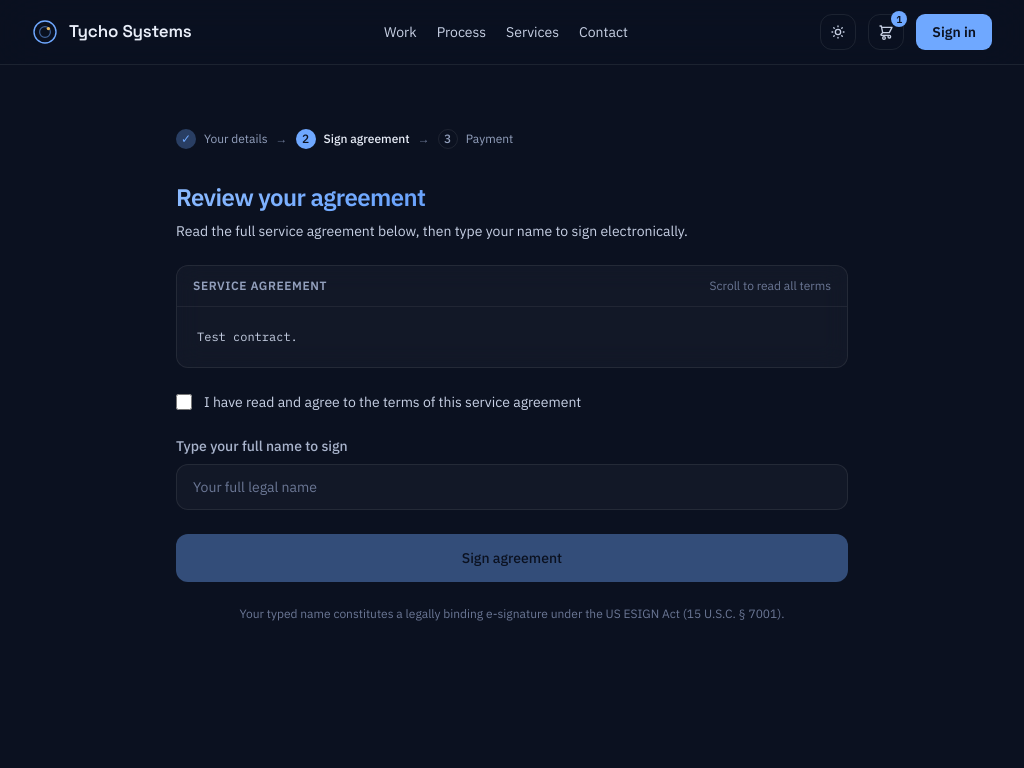
SignContract (Step 2 — Agreement & Payment) › transitions to payment step after signing
Click the checkbox.
click(184, 402)  # box [176, 394, 192, 410]
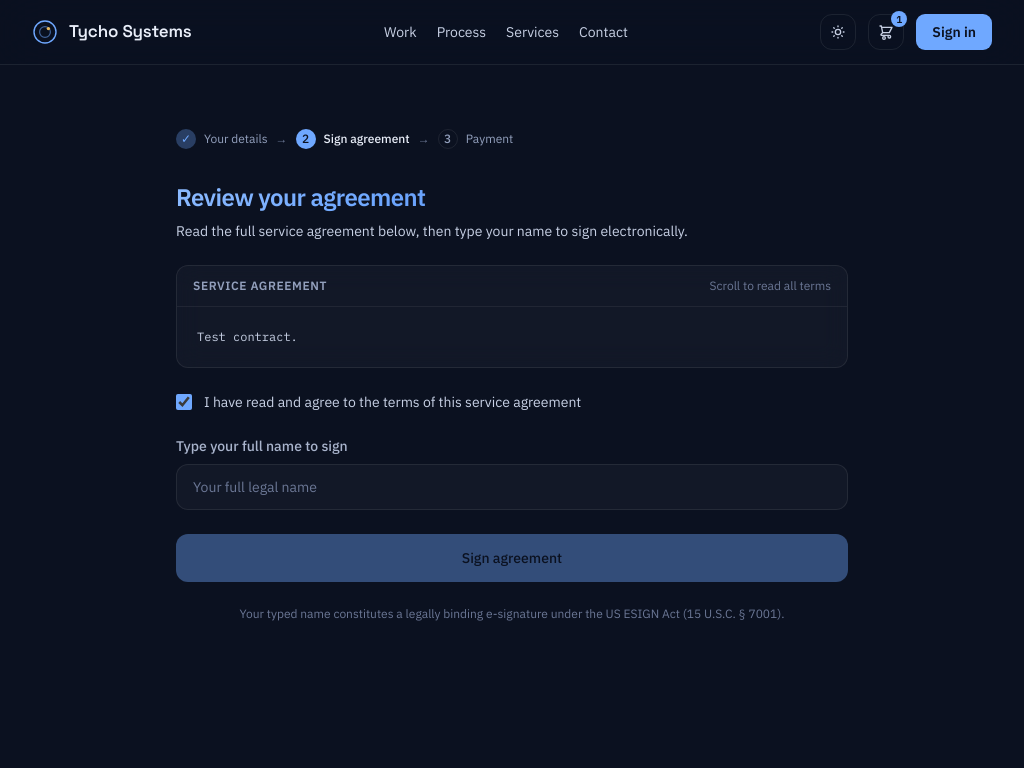
Type "Jane Doe" into the field with placeholder "Your full legal name".
click(512, 486); type("Jane Doe")  # box [176, 464, 848, 510]
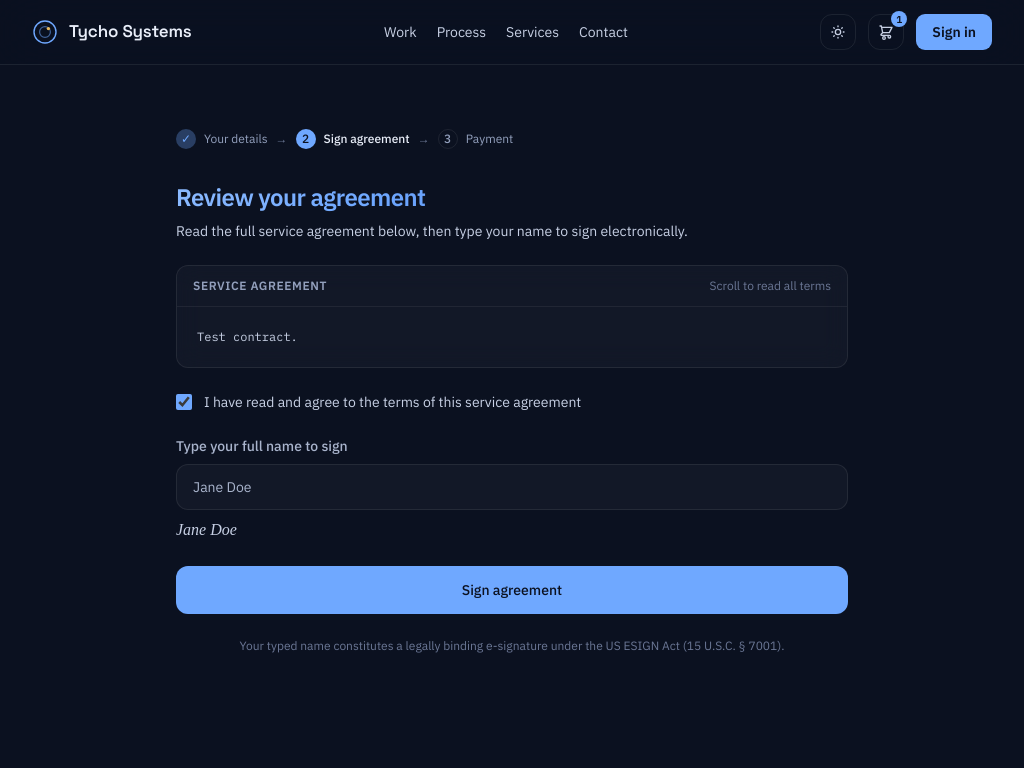
Click the button "Sign agreement".
click(512, 590)  # box [176, 566, 848, 614]
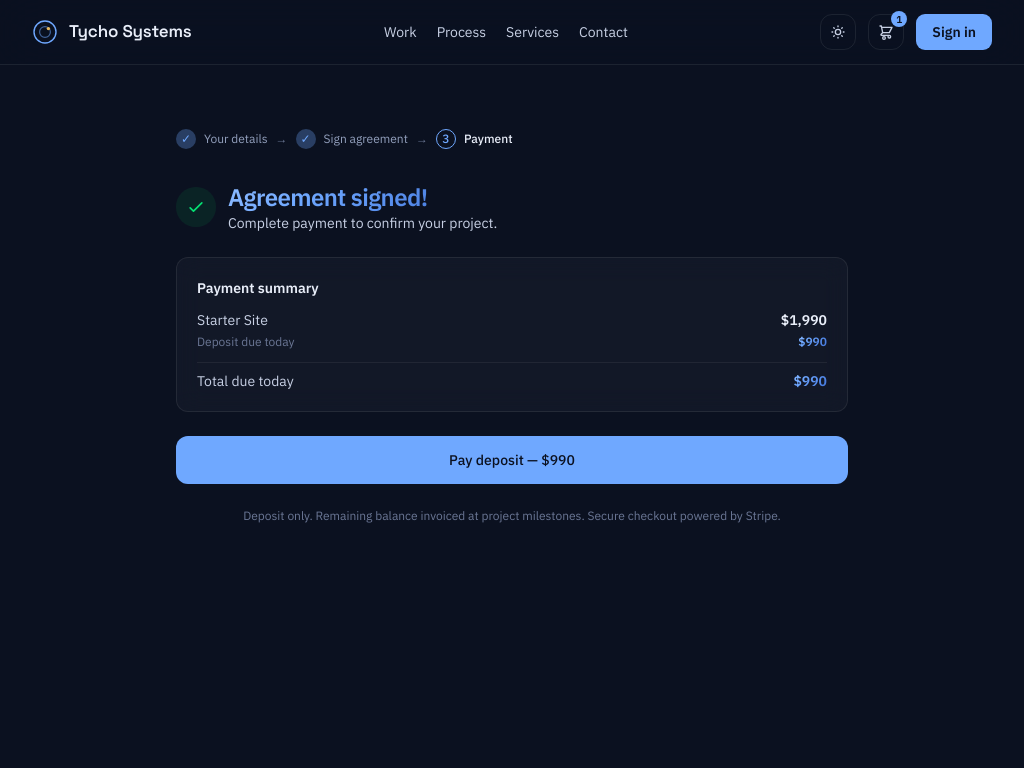
Check: the heading "Agreement signed!" is shown, box [228, 181, 497, 213]
